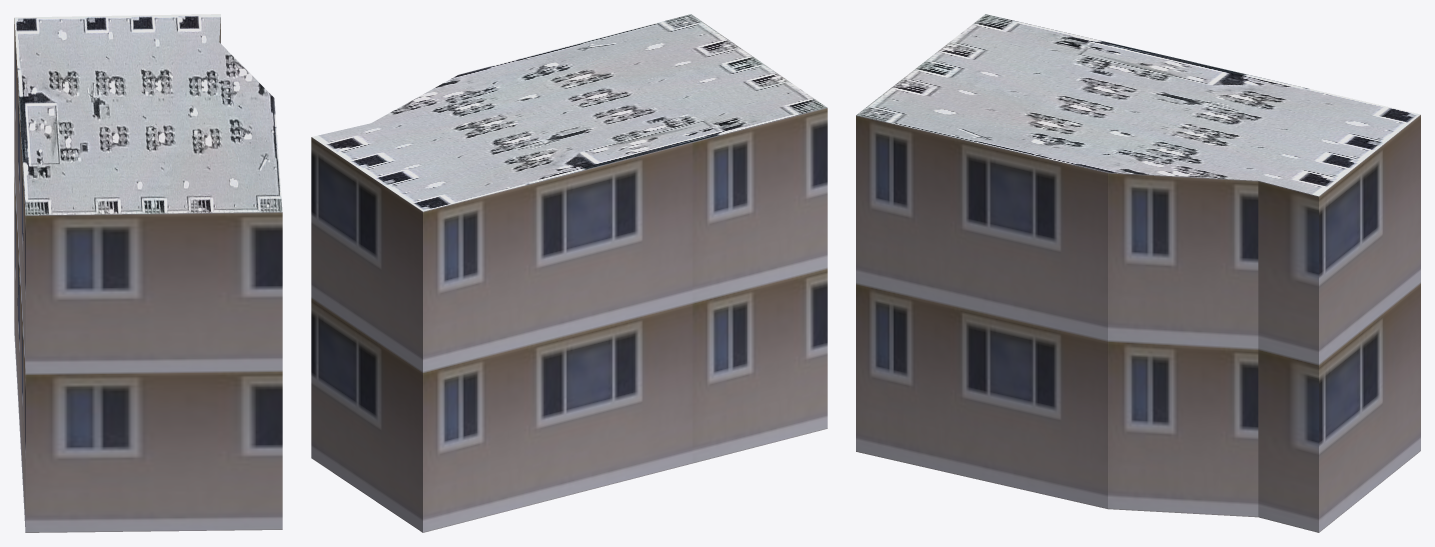
Rendered from ResTex__1136.fbx.
3 renders of one model, left to right at view 1: azimuth 30°, elevation 25°; view 2: azimuth 150°, elevation 25°; view 3: azimuth 270°, elevation 25°, orthographic. The views are drawn at different scales.
Visible parts, largest first — view 1: CityEngineMaterial_21_m, CityEngineMaterial_m; view 2: CityEngineMaterial_21_m, CityEngineMaterial_m; view 3: CityEngineMaterial_21_m, CityEngineMaterial_m.
Boxes of the visible parts, <box> form: CityEngineMaterial_21_m: <box>14,17,282,532</box>; CityEngineMaterial_m: <box>14,14,282,215</box>; CityEngineMaterial_21_m: <box>311,107,827,532</box>; CityEngineMaterial_m: <box>312,14,826,211</box>; CityEngineMaterial_21_m: <box>856,115,1420,532</box>; CityEngineMaterial_m: <box>856,14,1420,196</box>.
Bounding box in the file's own units: 6.98 × 6 × 9.13.
Materials: 2 (2 with a texture image).
